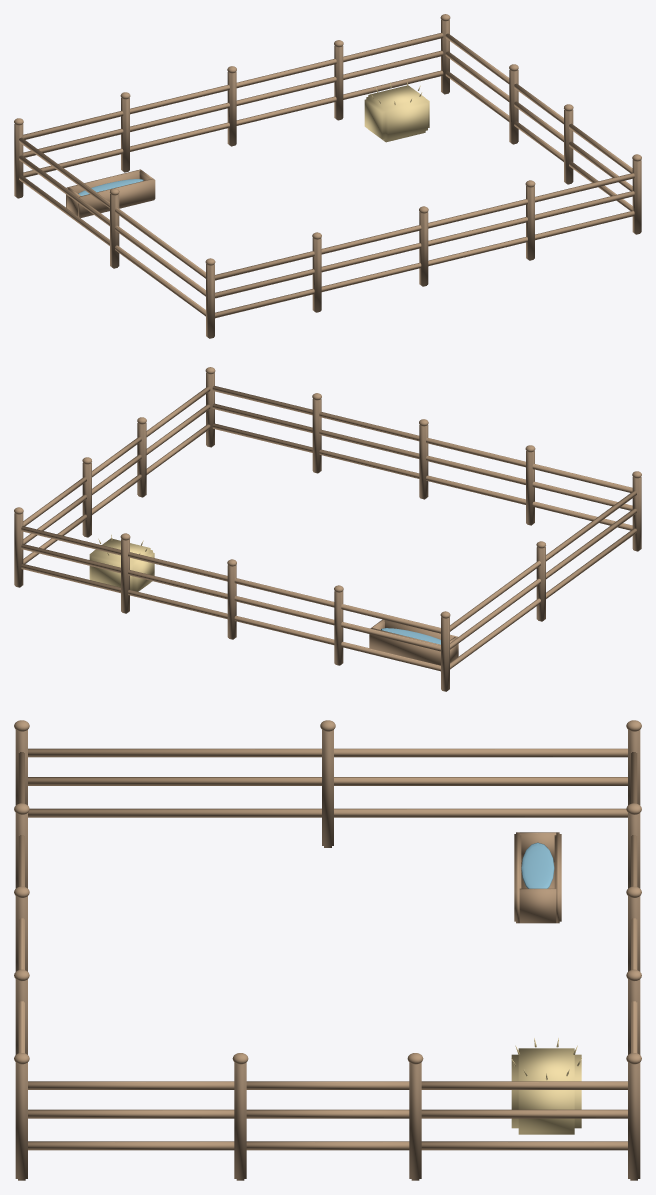
File: CowPen.fbx
3 views of the same model, one above another, from view 1: azimuth 30°, elevation 25°; view 2: azimuth 150°, elevation 25°; view 3: azimuth 270°, elevation 25° (orthographic). The views are drawn at different scales.
Parts seen in each view (by area): view 1: Pen_Rails, Pen_Posts, Pen_Hay, Pen_Trough, Pen_PostCaps; view 2: Pen_Rails, Pen_Posts, Pen_Hay, Pen_Trough, Pen_PostCaps; view 3: Pen_Rails, Pen_Posts, Pen_Hay, Pen_Trough, Pen_PostCaps, Pen_Water.
Part boxes in pixels (x1,y1,x2,y2): Pen_Rails: [19, 32, 634, 318]; Pen_Posts: [14, 19, 641, 338]; Pen_Hay: [364, 81, 429, 142]; Pen_Trough: [66, 169, 155, 218]; Pen_PostCaps: [14, 14, 641, 265]; Pen_Rails: [21, 385, 636, 671]; Pen_Posts: [14, 372, 641, 691]; Pen_Hay: [89, 534, 154, 591]; Pen_Trough: [369, 619, 458, 665]; Pen_PostCaps: [14, 367, 641, 618]; Pen_Rails: [18, 748, 637, 1150]; Pen_Posts: [15, 730, 640, 1180]; Pen_Hay: [511, 1038, 581, 1134]; Pen_Trough: [514, 832, 561, 923]; Pen_PostCaps: [14, 720, 641, 1064]; Pen_Water: [521, 842, 554, 888].
Bounding box in the file's own units: 9.18 × 1.58 × 7.18.
